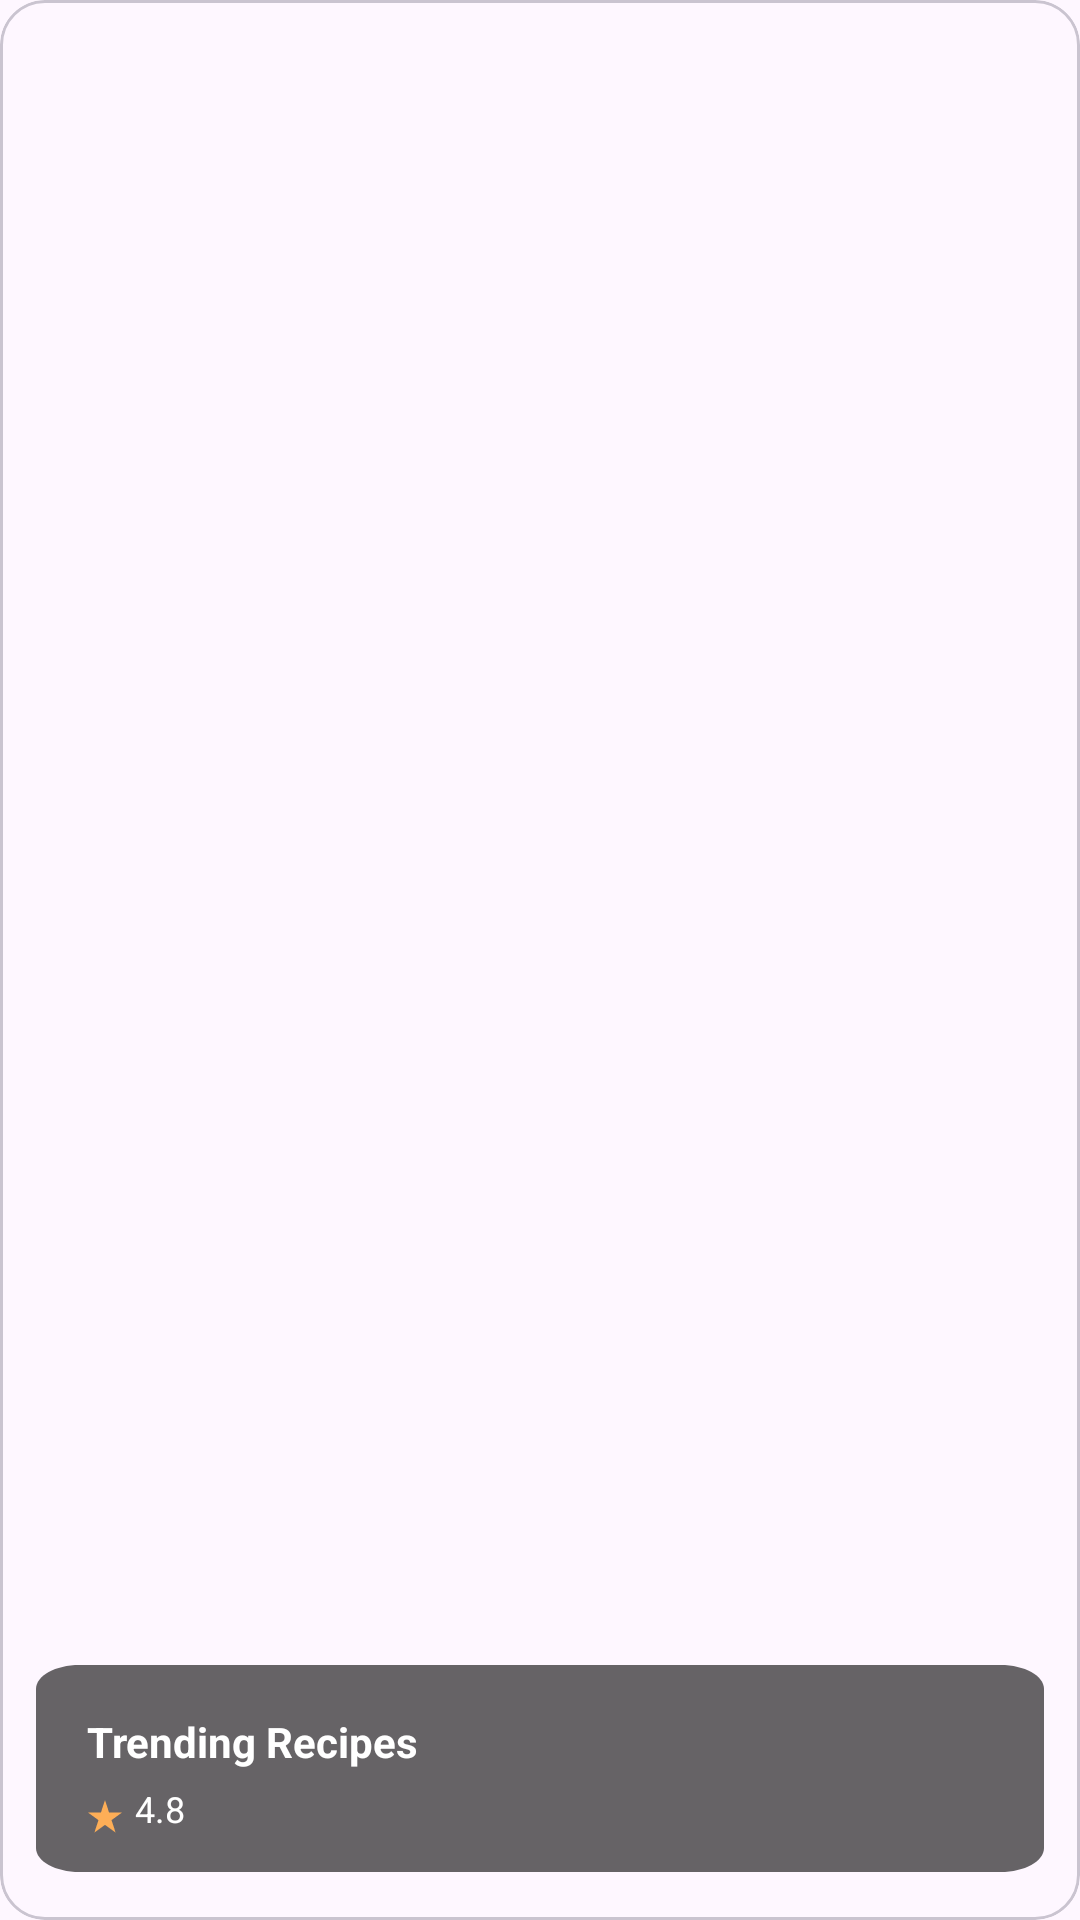

Icon click points for this 1080w x 1920h phone screenshot, format [x,y]:
star: [105,1817]
